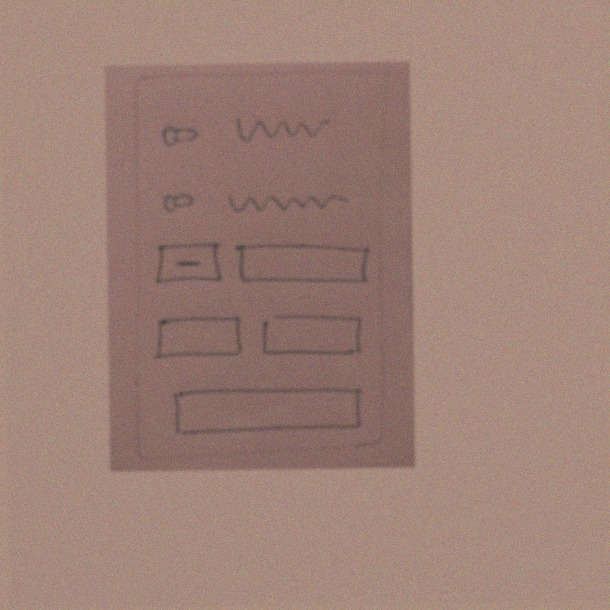button: (150, 237, 226, 292)
switch: (159, 118, 206, 150), (157, 189, 200, 218)
text: (227, 110, 334, 152), (223, 186, 356, 214)
text_input: (168, 384, 368, 439), (233, 238, 372, 291), (255, 310, 370, 365), (149, 313, 246, 365)
